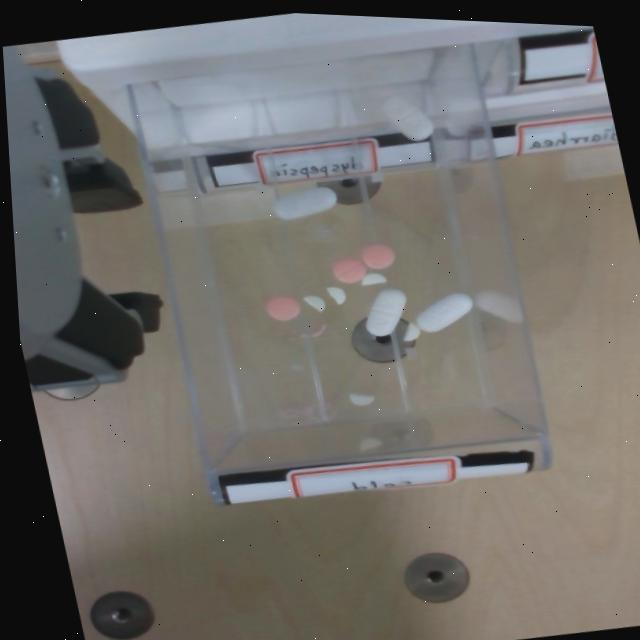amoxicle_tab: (414, 294, 473, 333), (382, 97, 433, 141), (273, 188, 336, 220), (366, 289, 406, 336)
panstar_tab: (361, 244, 395, 270), (332, 259, 367, 284), (266, 296, 300, 321)
sudafed_tab: (348, 393, 375, 407), (303, 296, 325, 312), (327, 287, 346, 305), (360, 273, 386, 286), (403, 324, 421, 342)
